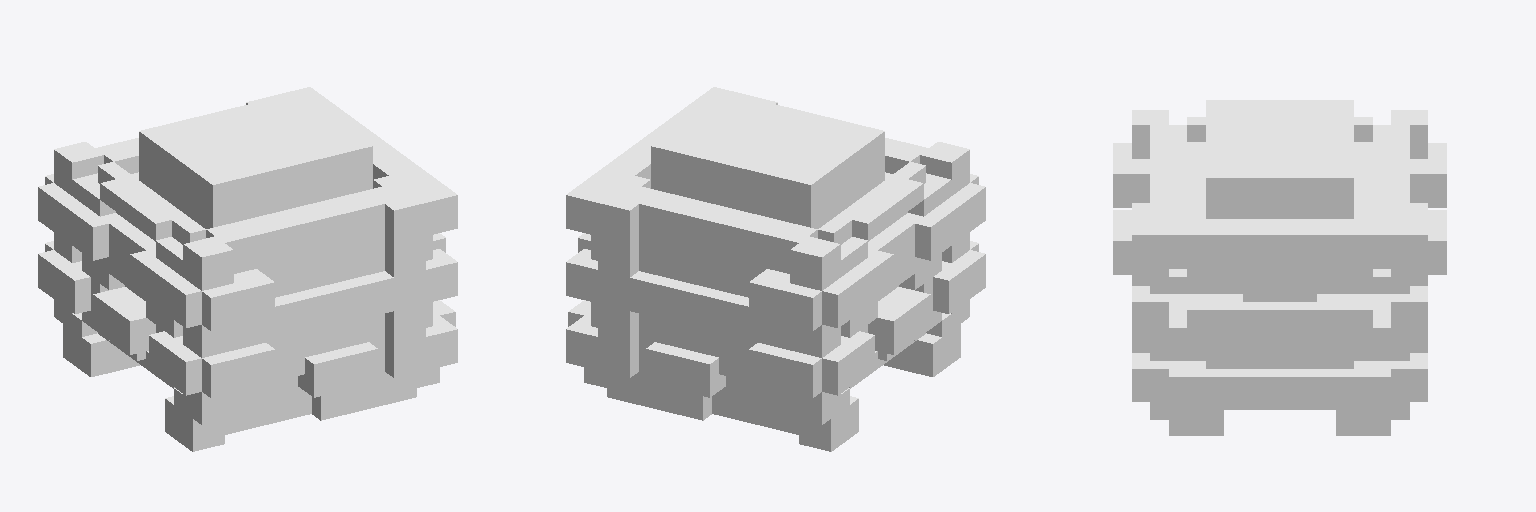
File: Mecha01_body.obj
3 renders of one model, left to right at view 1: azimuth 30°, elevation 25°; view 2: azimuth 150°, elevation 25°; view 3: azimuth 270°, elevation 25°, orthographic.
Parts seen in each view (by area): view 1: object 1; view 2: object 1; view 3: object 1.
Part boxes in pixels (bbox=[...]): object 1: bbox=[38, 87, 457, 451]; object 1: bbox=[566, 87, 985, 451]; object 1: bbox=[1113, 100, 1446, 435].
Size of the model in its own units: 1.8 by 1.4 by 1.8.